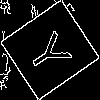Y: (25, 24, 81, 78)
